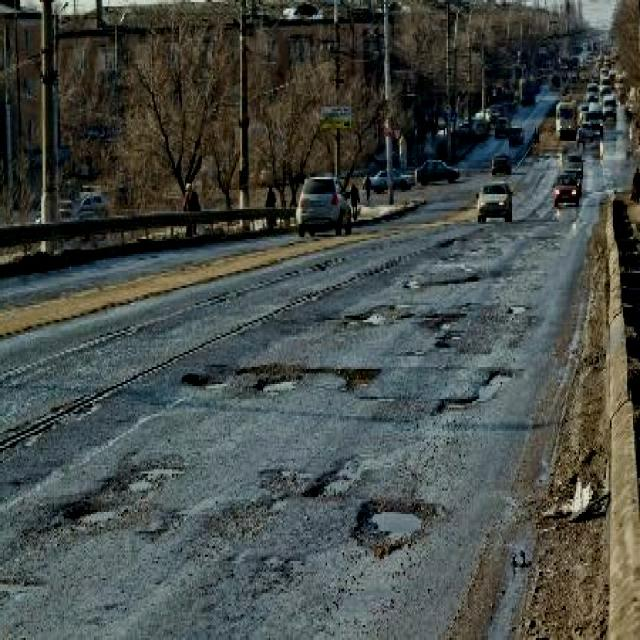Pothole: (61, 459, 186, 523), (353, 495, 441, 557), (432, 365, 518, 416), (303, 465, 356, 501), (338, 301, 393, 331), (340, 363, 384, 393), (238, 358, 313, 375), (255, 371, 306, 393), (425, 307, 466, 333), (182, 367, 213, 388), (508, 299, 530, 314), (402, 275, 422, 290)
